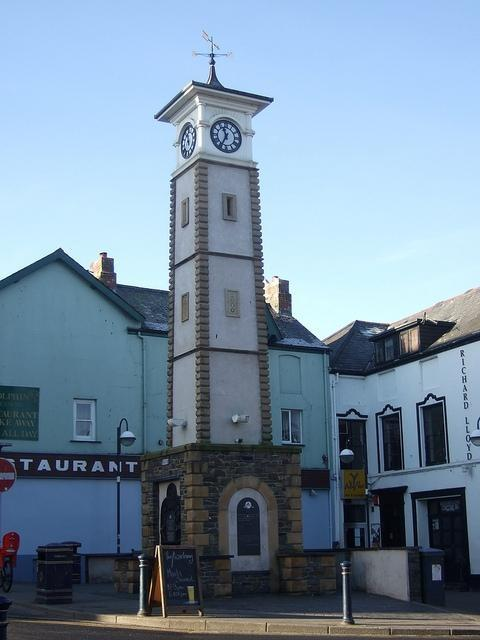bicycle: (0, 556, 14, 592)
